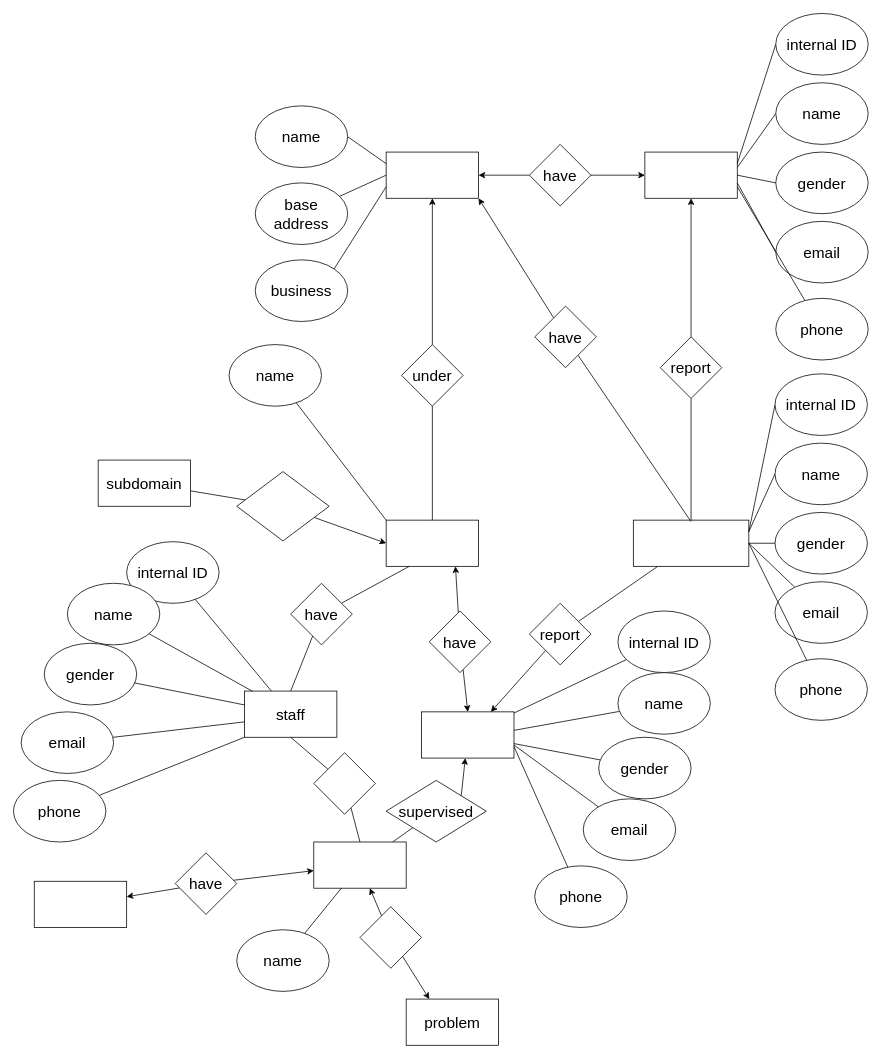
Image size: 882x1059. Some labels were removed from this diagram. Each missing label, with the centre of its shape:
"business team" goes at (x=359, y=864).
"department" goes at (x=432, y=542).
"director" goes at (x=467, y=734).
"focus" goes at (x=390, y=937).
"group" goes at (x=432, y=174).
"join" goes at (x=344, y=783).
"president" goes at (x=690, y=174).
"taking charge of" goes at (x=282, y=506).
"team leader" goes at (x=80, y=903).
"vice-president" goes at (x=691, y=542).
